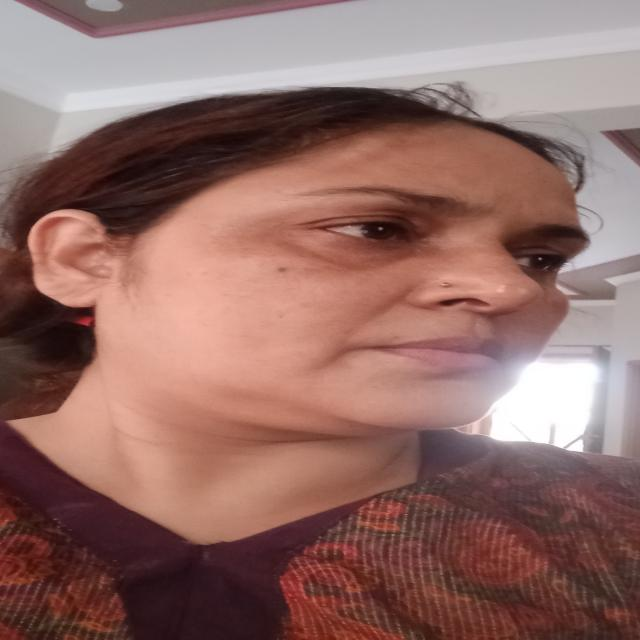Wrinkles: (334, 295, 405, 346), (318, 352, 346, 371), (514, 200, 524, 228), (501, 368, 513, 387), (496, 318, 505, 343), (492, 190, 504, 206)
